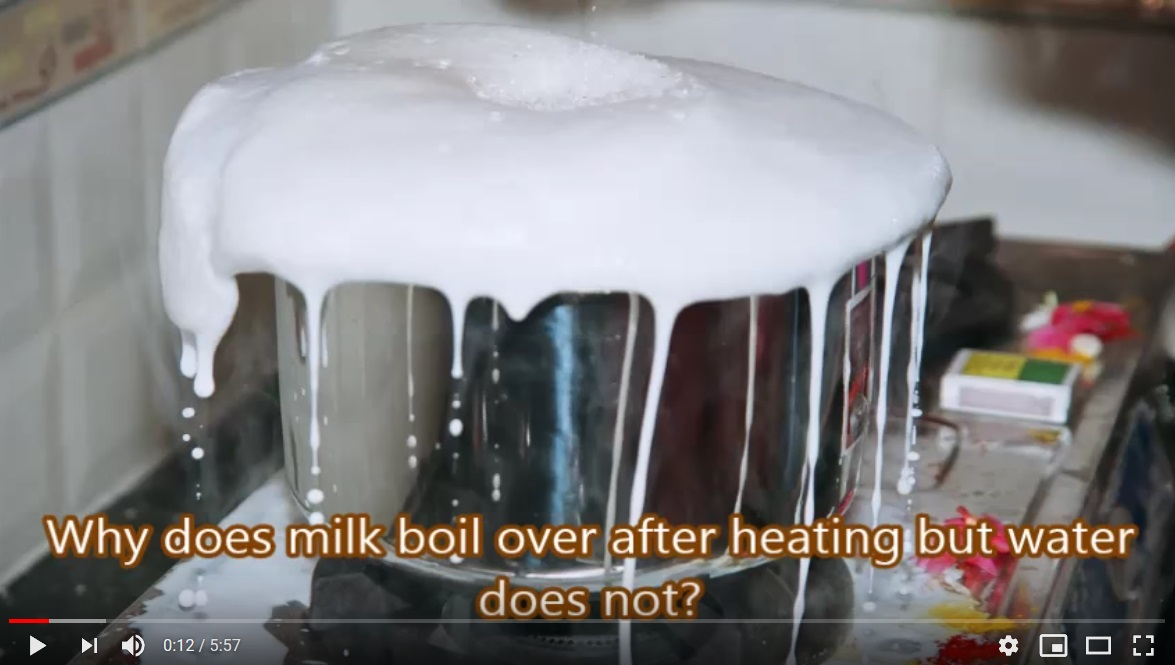Boiled: (152, 20, 989, 557)
